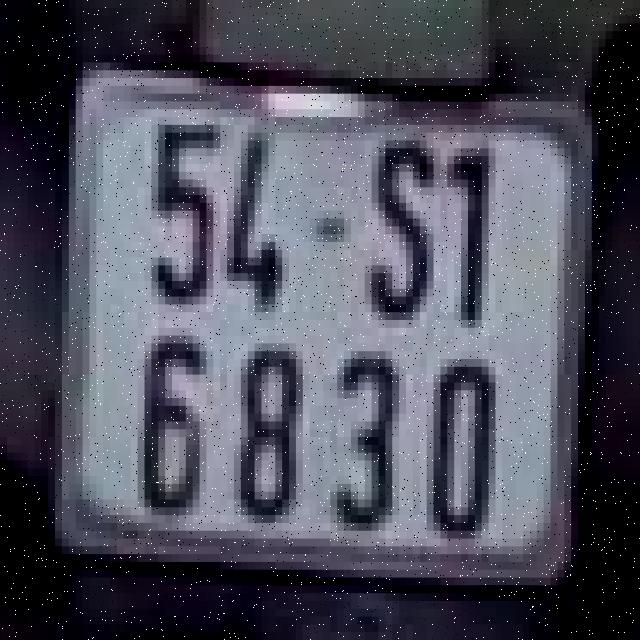0: (420, 348, 509, 550)
1: (444, 121, 506, 332)
3: (323, 332, 406, 542)
4: (217, 117, 299, 320)
5: (138, 109, 220, 312)
6: (124, 328, 206, 523)
8: (234, 332, 310, 527)
S: (354, 125, 437, 335)
